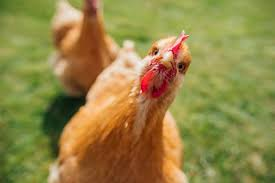buff: (126, 30, 196, 139)
